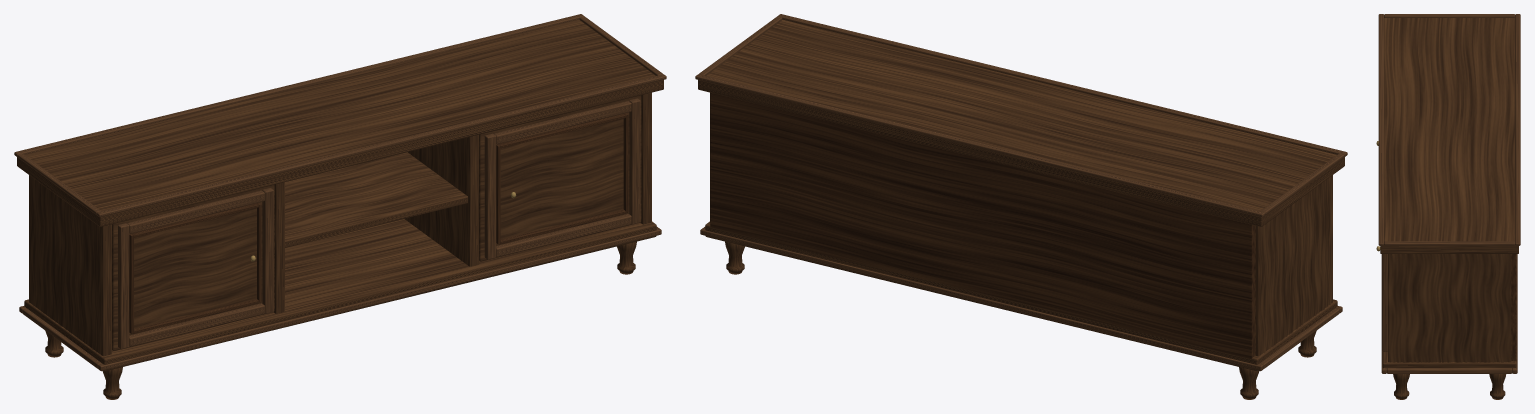
Rendered from dark_academia_rack_tv.glb.
3 renders of one model, left to right at view 1: azimuth 30°, elevation 25°; view 2: azimuth 150°, elevation 25°; view 3: azimuth 270°, elevation 25°, orthographic. The views are drawn at different scales.
Visible parts, largest first — view 1: rack_tv; view 2: rack_tv; view 3: rack_tv.
Boxes of the visible parts, <box> form: rack_tv: <box>14,14,666,399</box>; rack_tv: <box>695,14,1347,399</box>; rack_tv: <box>1376,14,1520,399</box>.
Size of the model in its own units: 1.71 by 0.572 by 0.4523.
Materials: 4 (3 with a texture image).
